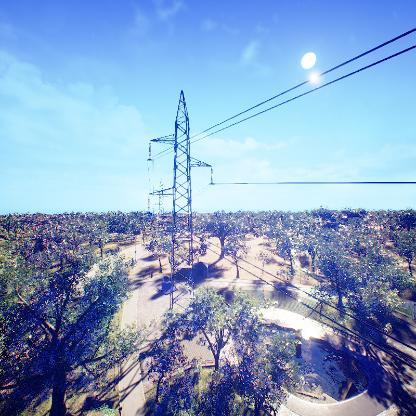tower: (143, 88, 215, 324)
